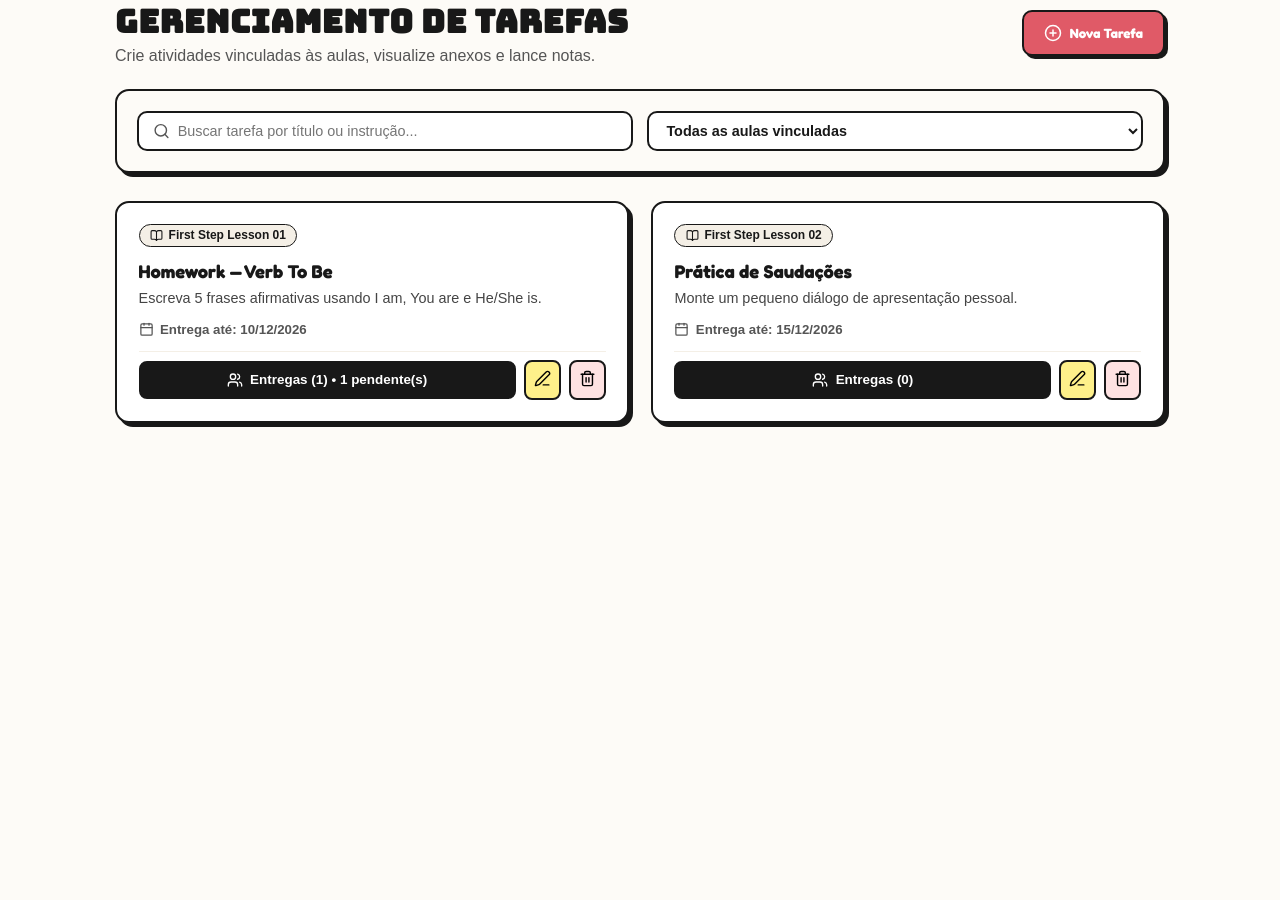
Test case: Página Assignments (CRUD Completo e Sistema de Avaliação) › CRUD Completo de Tarefas (Visão do Professor) › UPDATE: deve editar uma tarefa existente e atualizar os dados na tela
Expected: the heading "Homework — Verb To Be" is shown, [139, 260, 333, 282]
Step 1. Click the button titled "Editar Tarefa" below "10/12/2026" → (542, 380), box [524, 360, 561, 400]
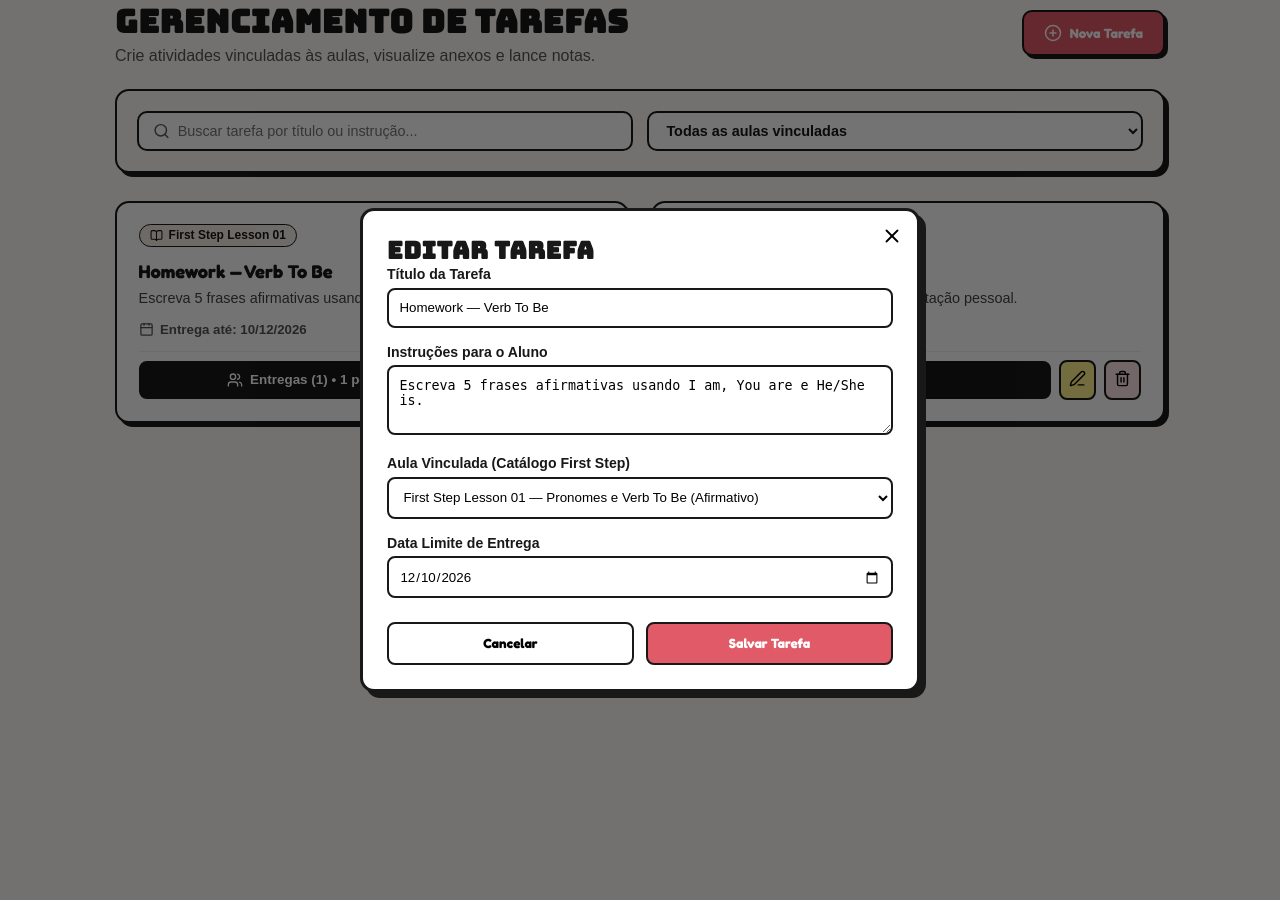
Now the heading "Editar Tarefa" is shown, box [387, 235, 594, 266]
Step 2. Replace the text in the field showing "Homework — Verb To Be" with "Homework — Verb To Be (Revisado)" → (640, 308), box [387, 288, 893, 328]
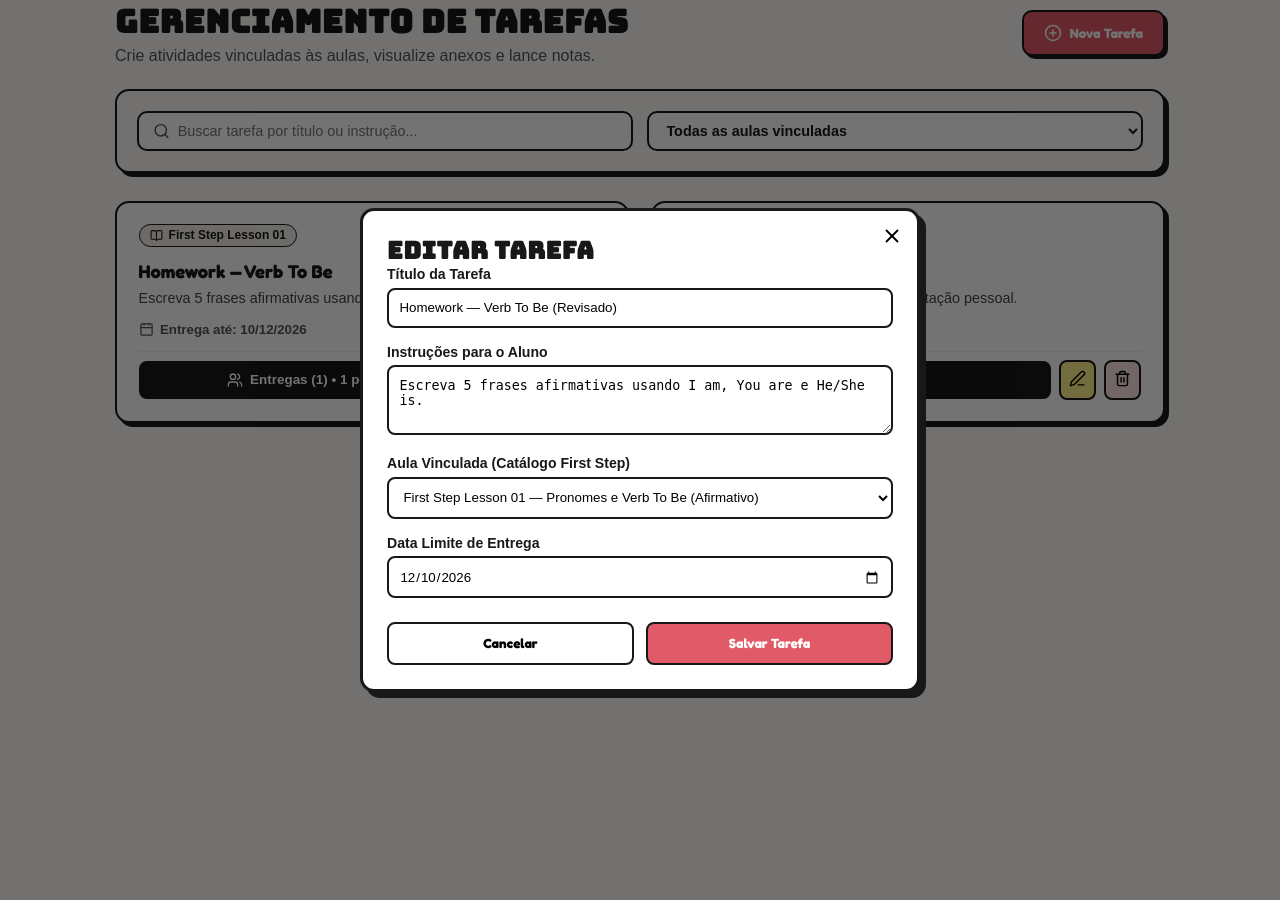
Step 3. Click the button "Salvar Tarefa" → (770, 643), box [646, 622, 893, 665]
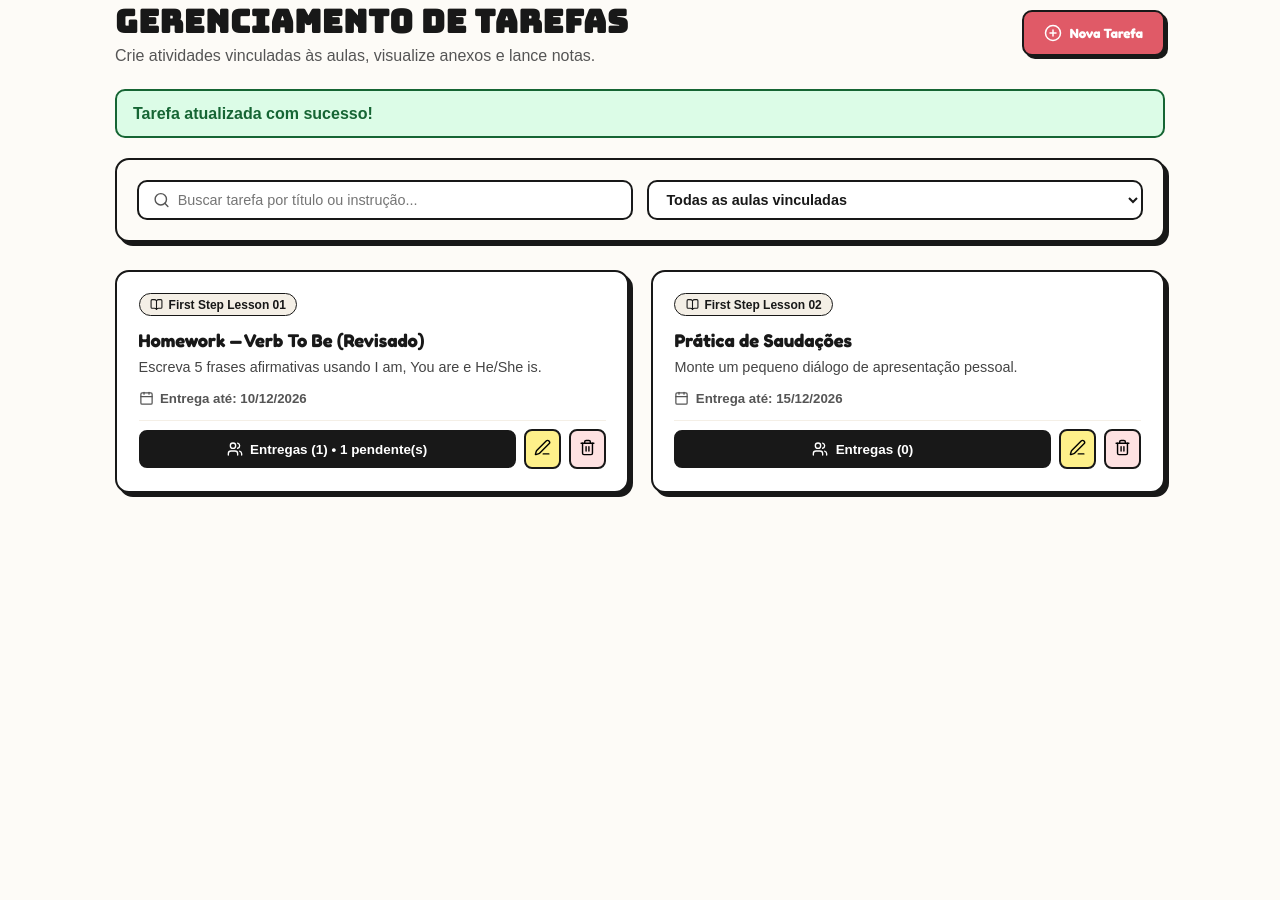
Now the text "Tarefa atualizada com sucesso!" is shown, box [115, 89, 1165, 138]
Now the heading "Homework — Verb To Be (Revisado)" is shown, box [139, 329, 424, 351]
